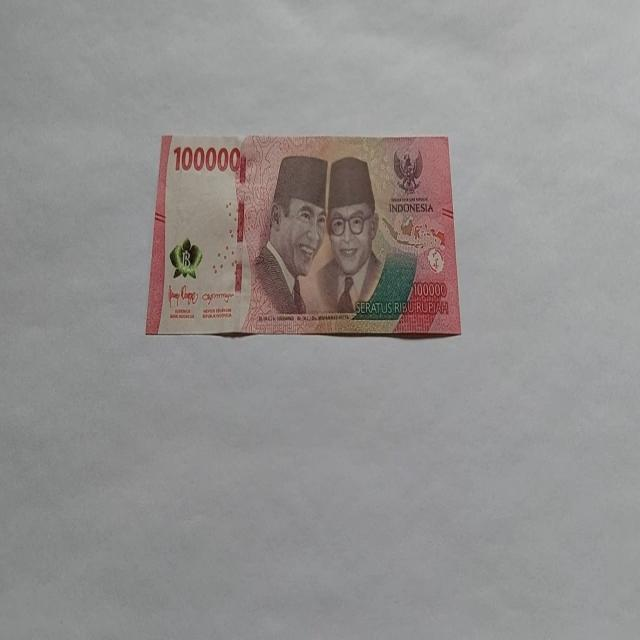seratus ribu rupiah: (144, 132, 462, 338), (242, 154, 328, 332)
